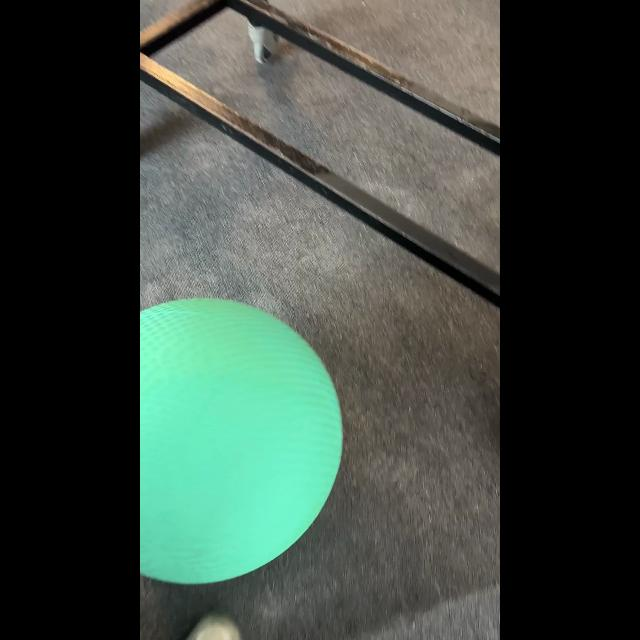ALGAE: (140, 296, 344, 584)
